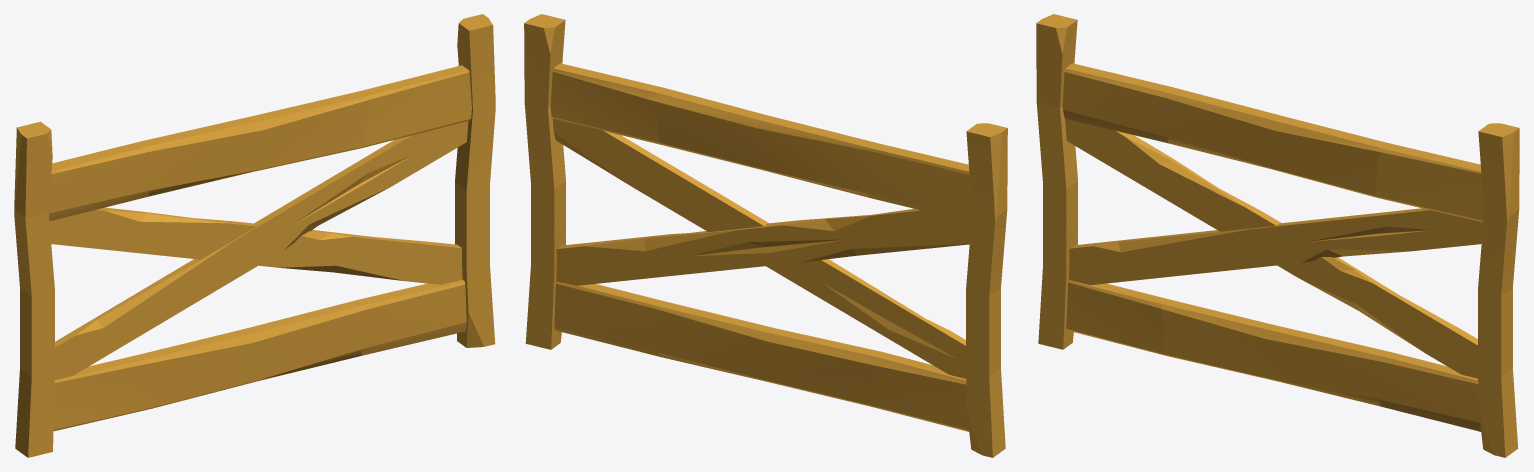
Rendered from fence003.gltf.
3 renders of one model, left to right at view 1: azimuth 30°, elevation 25°; view 2: azimuth 150°, elevation 25°; view 3: azimuth 330°, elevation 25°, orthographic.
Visible parts, largest first — view 1: node_fence003_1_-128804; view 2: node_fence003_1_-128804; view 3: node_fence003_1_-128804.
Part boxes in pixels (x1,y1,x2,y2): node_fence003_1_-128804: (14,14,495,457); node_fence003_1_-128804: (524,14,1007,457); node_fence003_1_-128804: (1036,14,1519,457).
Size of what is drawn, in the model's own units: 1.06 by 0.6923 by 0.0555.
